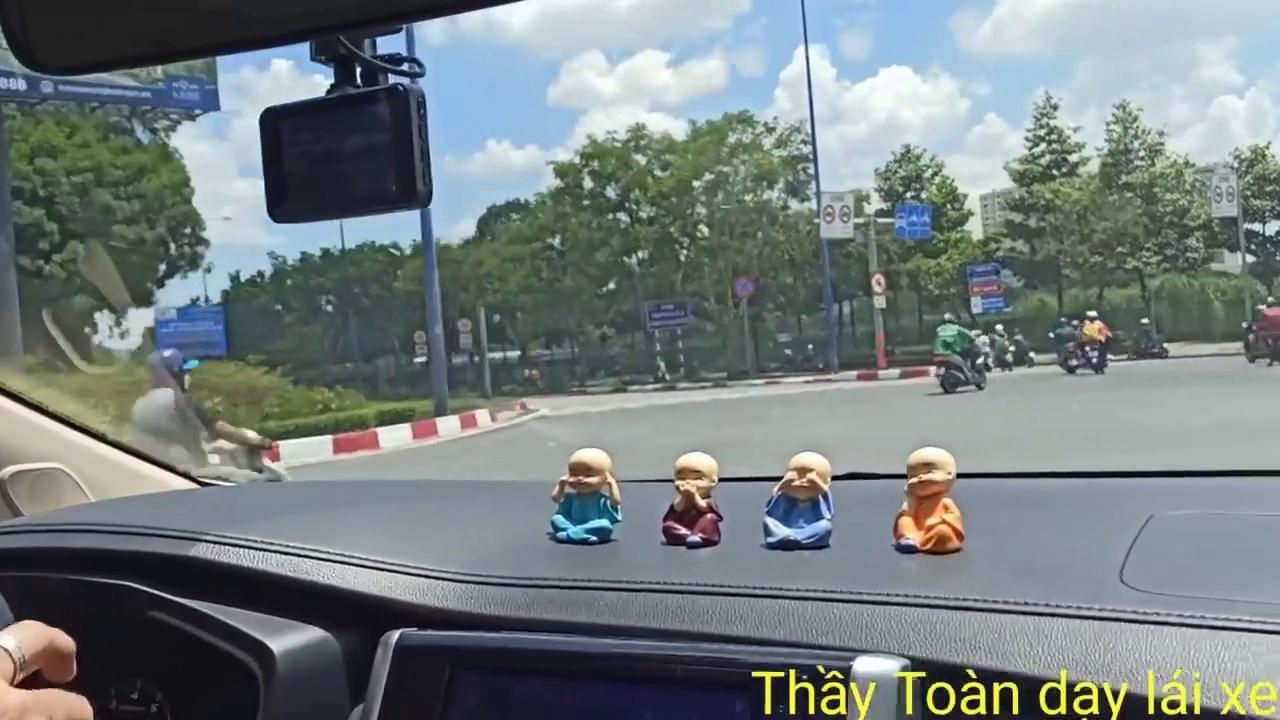Cấm cac phương tiện hoạt động trong khung giờ cố định: (819, 191, 855, 239)
Cấm dừng - Cấm đỗ: (733, 273, 756, 299)
Cấm xe máy: (868, 271, 888, 295)
Khác: (154, 306, 228, 358), (964, 261, 1006, 316)
Làn đường cho từng xe: (893, 204, 933, 240)
